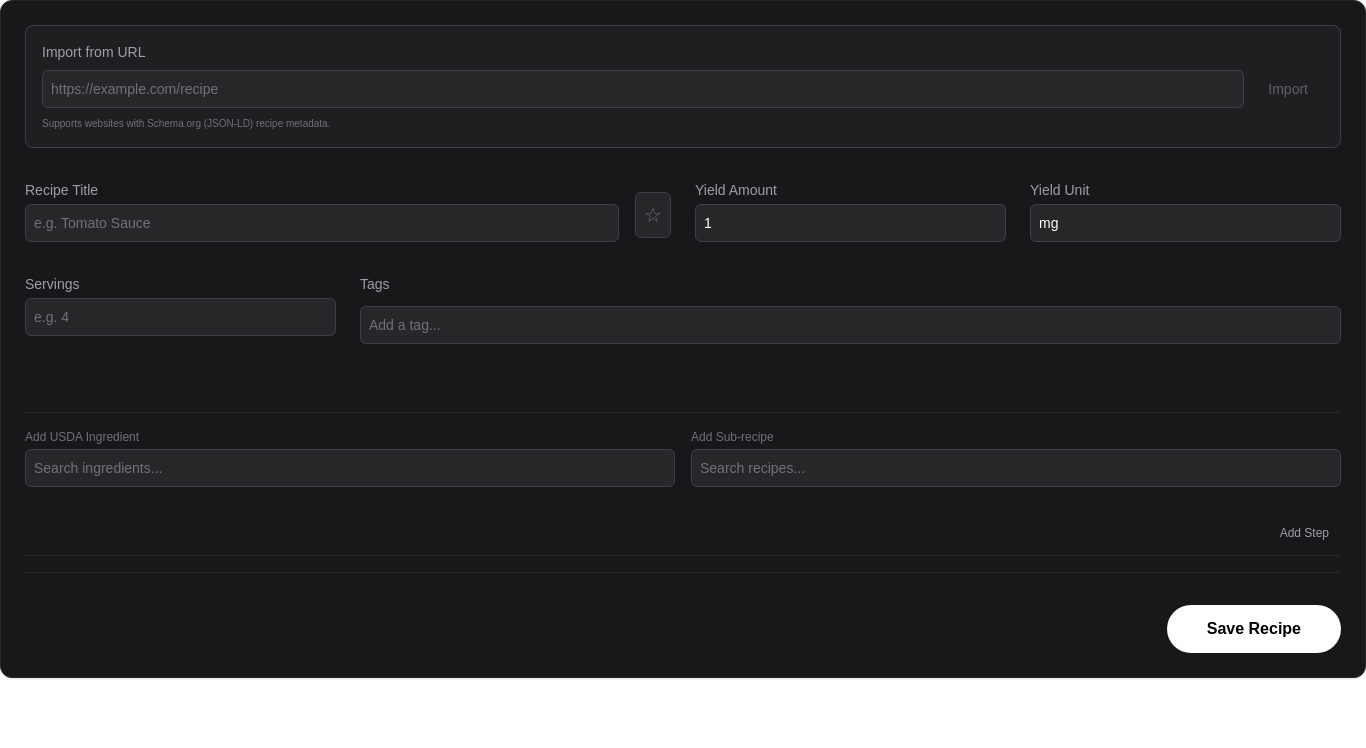
Scenario: RecipeEditor › allows searching and adding USDA ingredients
This screenshot has width=1366, height=748.
In the field with placeholder "Search ingredients...": (350, 468) [25,449,675,487], type "Apple"
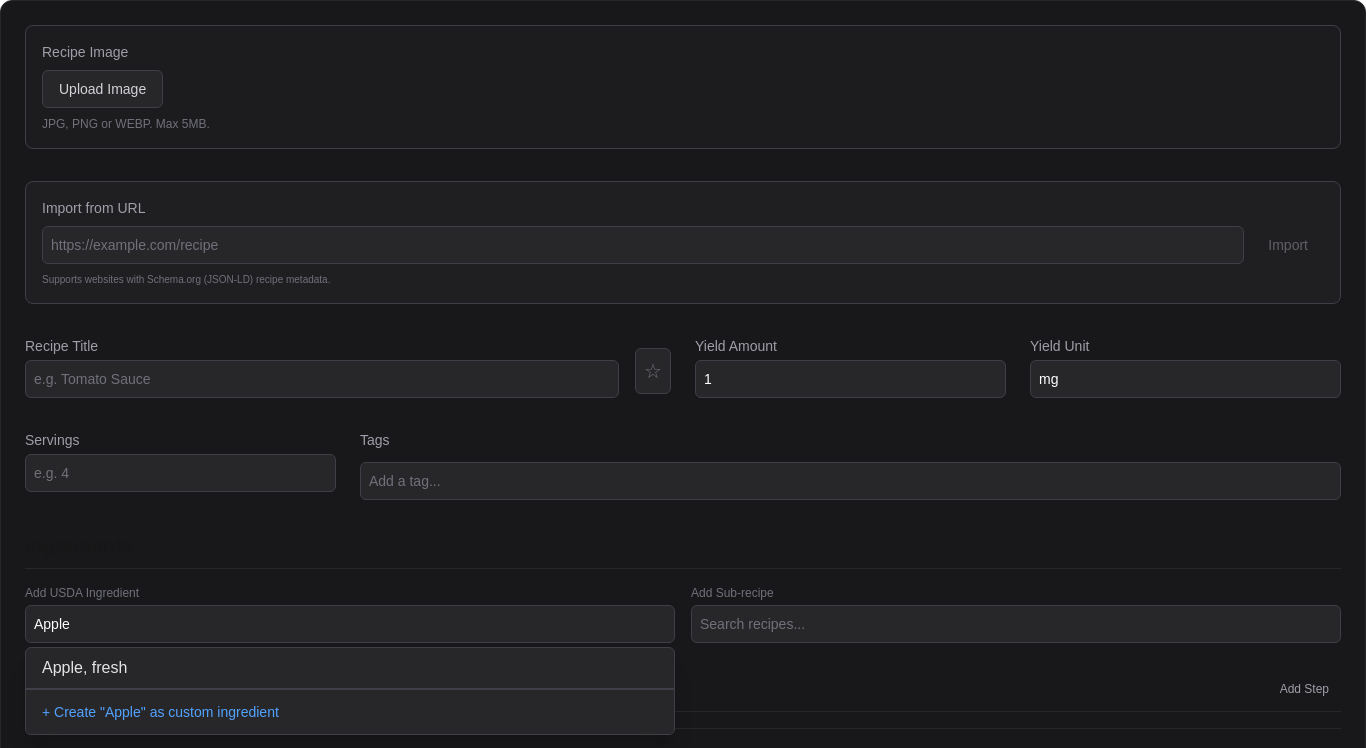
Expected: the text "Apple, fresh" is shown, [42,656,127,680]
Click the option "Apple, fresh": (85, 668) [26,648,674,689]
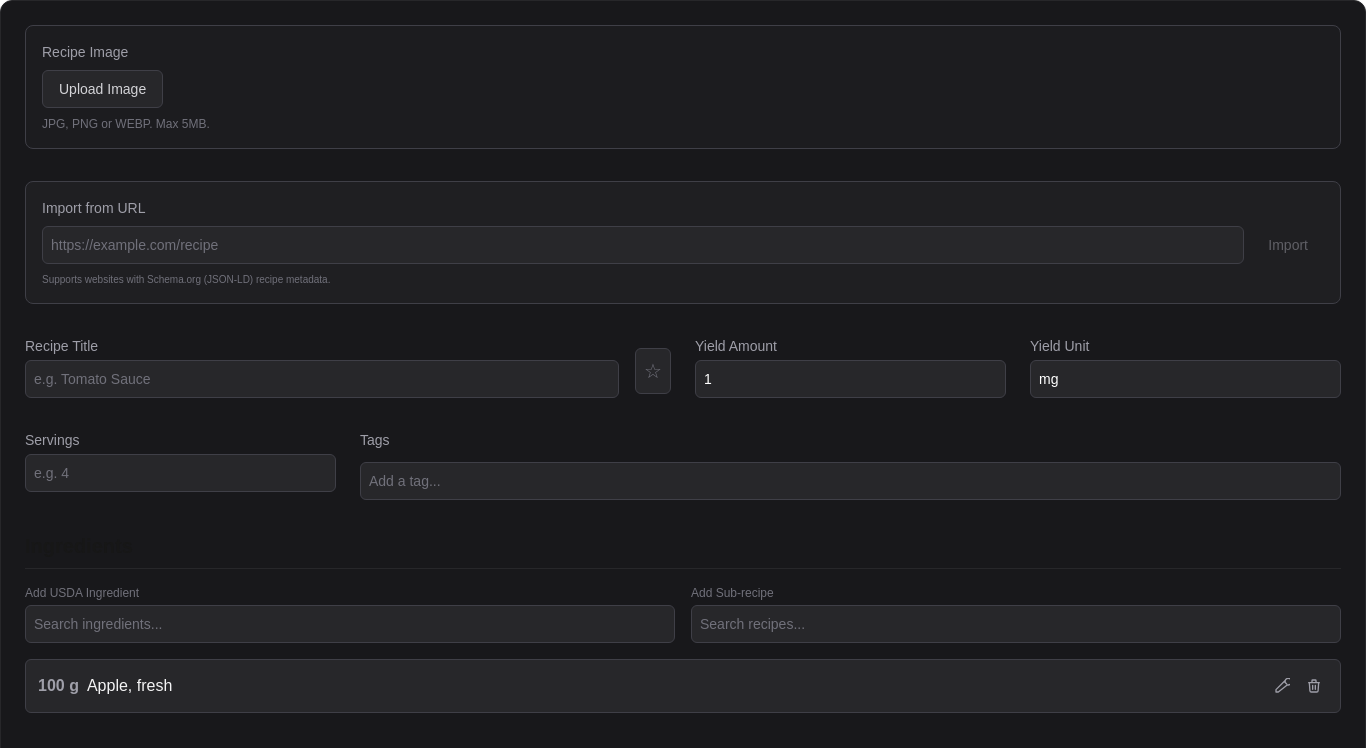
Expected: the text "Apple, fresh" is shown, [87,674,172,698]
Click the button titled "Edit inline": (1282, 686) [1268,672,1296,700]
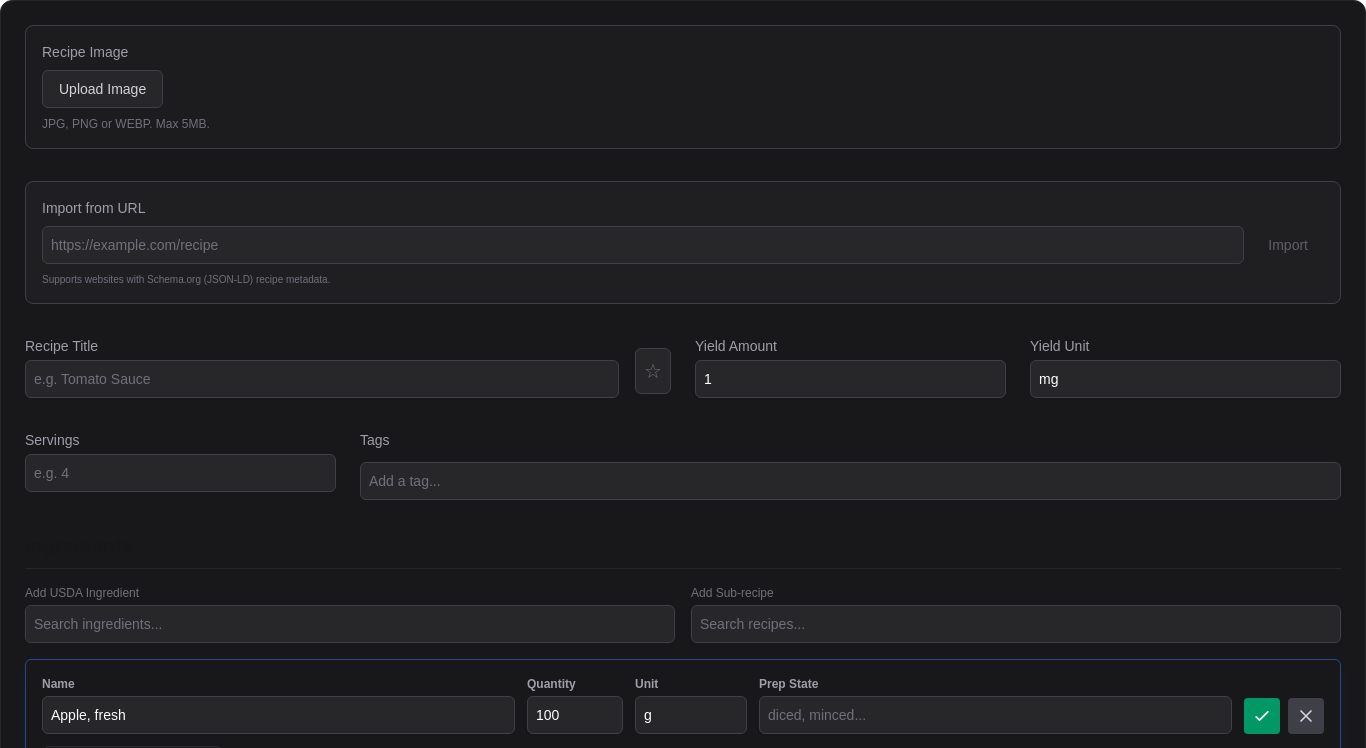
Expected: the number of number fields with placeholder "Qty" is 1, [527,696,623,734]
